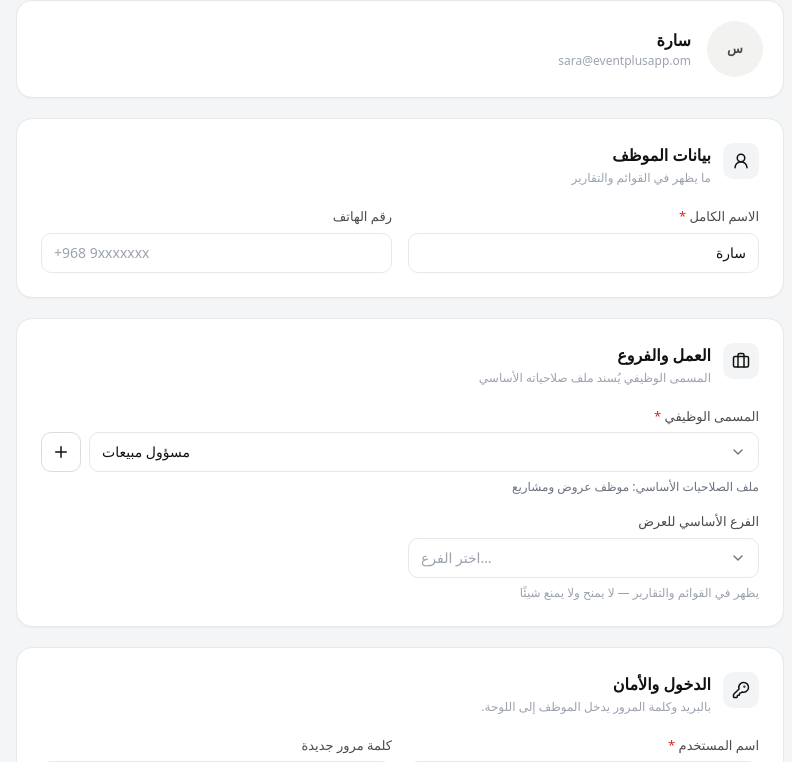
Scenario: EmployeeForm › says before saving that a new job title changes the employee’s profile
The image size is (792, 762).
Click the dropdown named "المسمى الوظيفي". click: [146, 452]
box: [89,432,759,472]
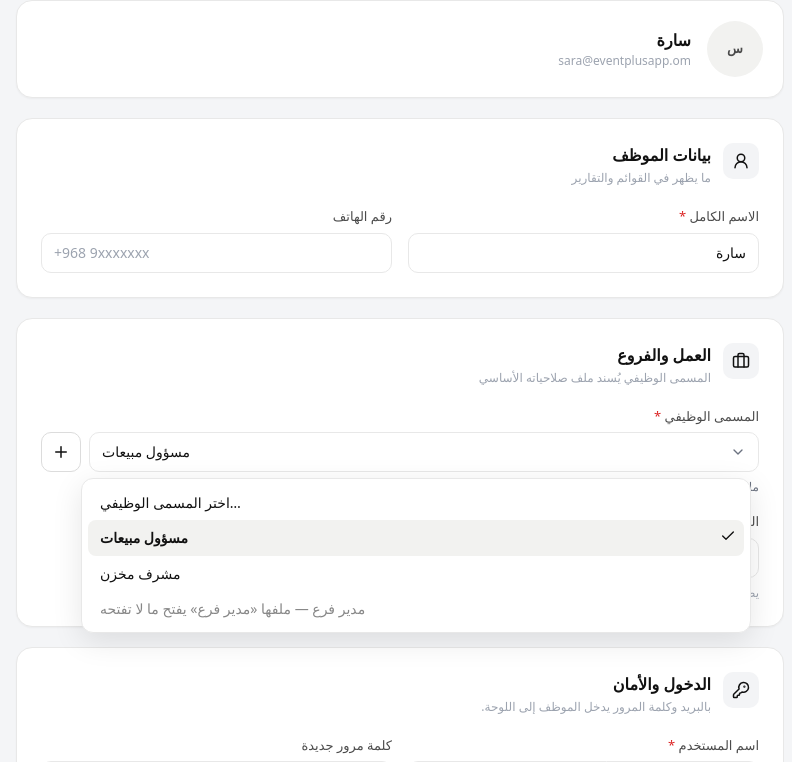
Click the option "مشرف مخزن". click: [140, 573]
box: [100,564,180,582]
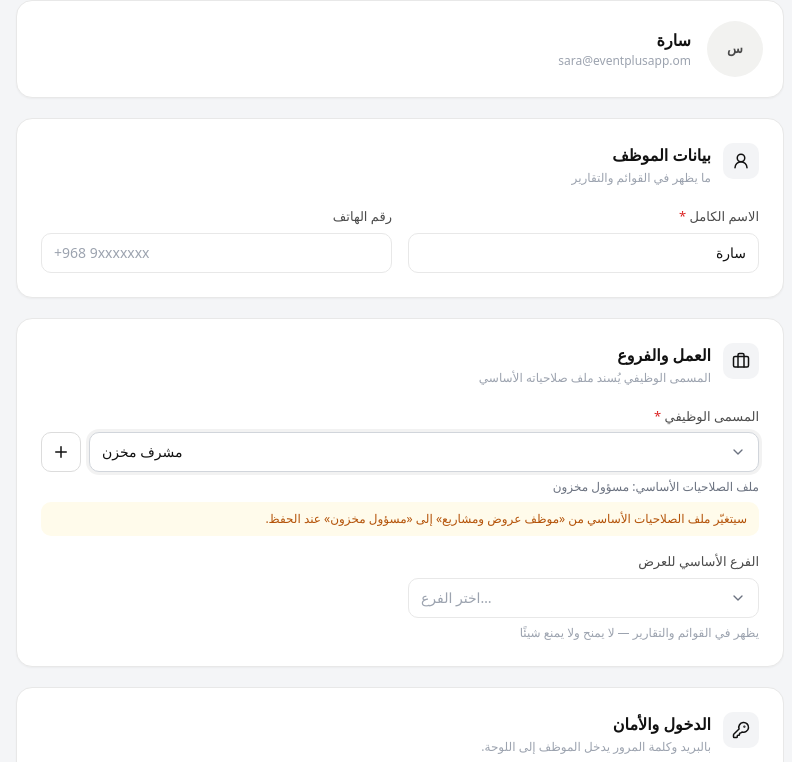
expect the text with test id "role-change" shows "سيتغيّر ملف الصلاحيات الأساسي من «موظف عروض ومشاريع» إلى «مسؤول مخزون» عند الحفظ.": met, box [265,510,747,527]
